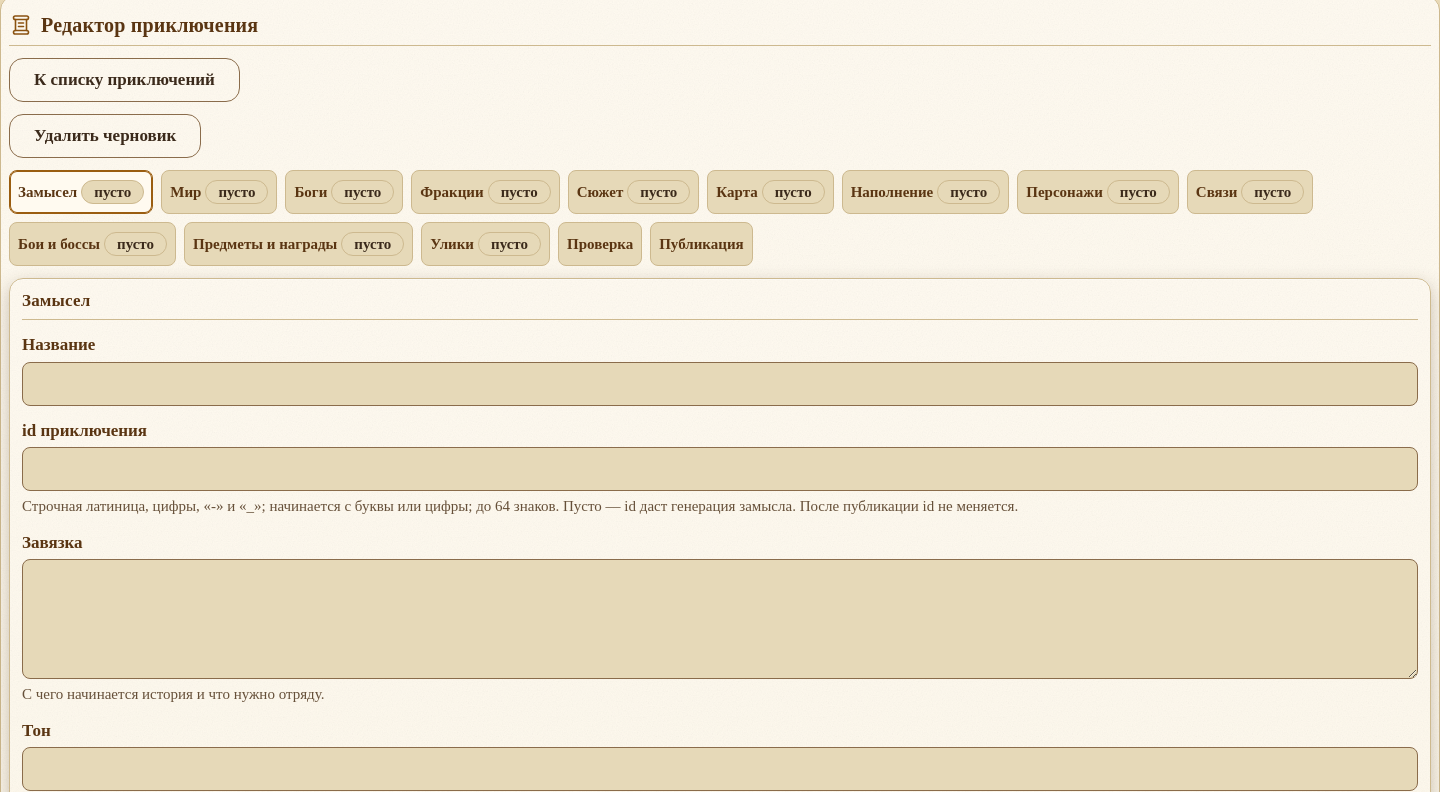
шаг «Предметы и награды» › предметы черновика: держатель, база SRD, «Что знают игроки», «Известно с начала», где лежат
The image size is (1440, 792).
Click the button "Предметы и награды пусто" at (299, 244), box [184,222,413,266]
(page scrolled)
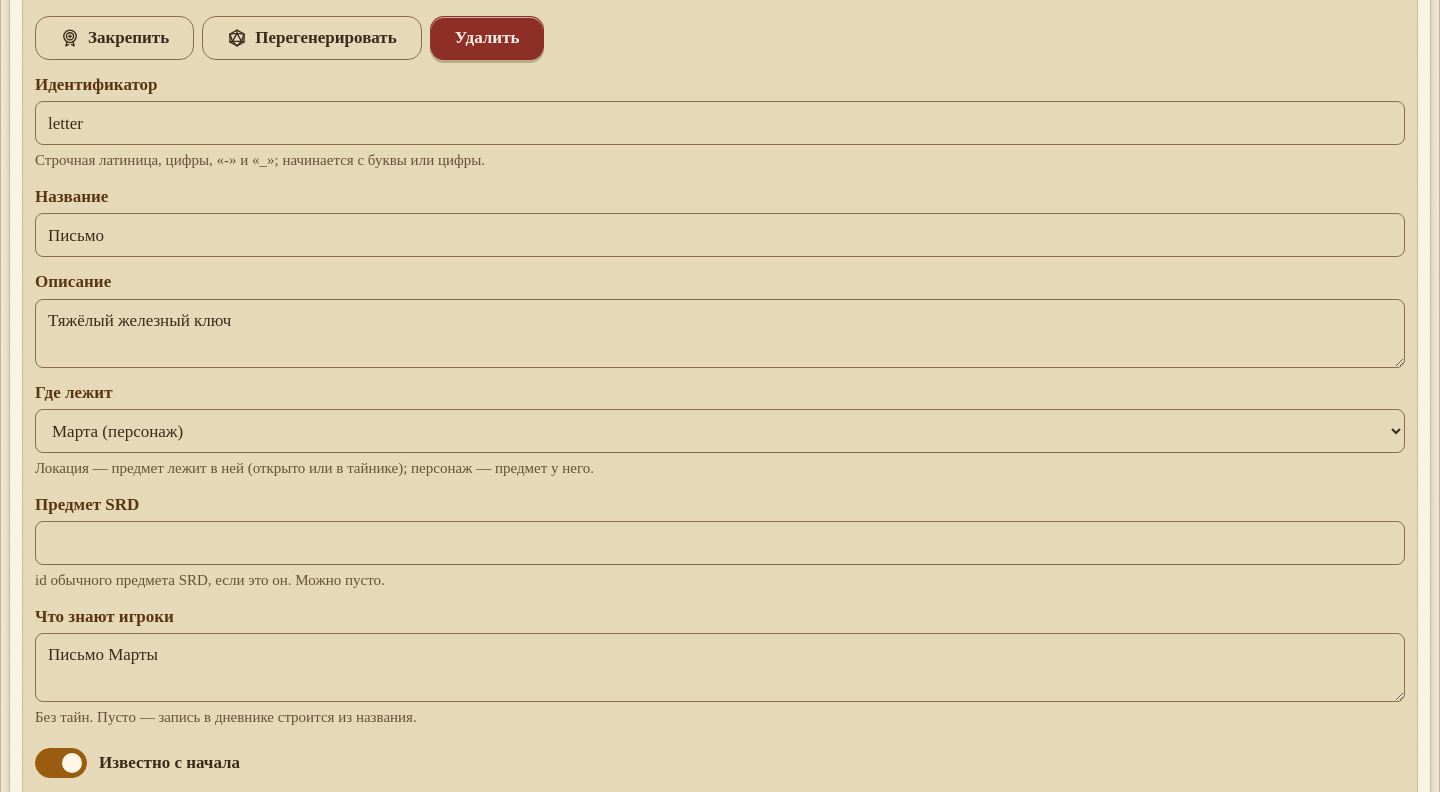
Expected: the switch labelled "Известно с начала" is checked, [35,748,87,778]
Result: the dropdown labelled "Где лежит" shows "Марта (персонаж)" at [35,409,1405,453]
Result: the text box labelled "Что знают игроки" holds "Письмо Марты" at [35,633,1405,702]
